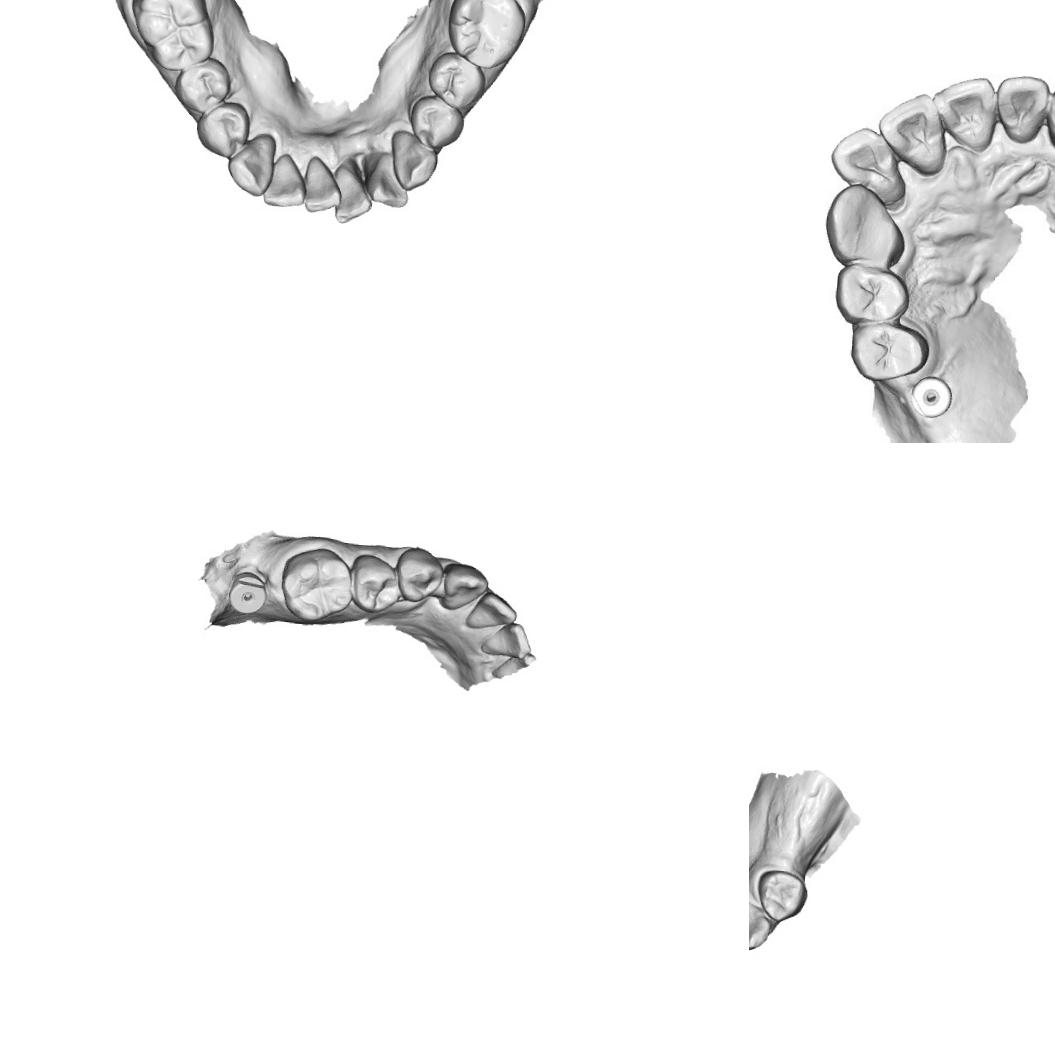canine: (820, 179, 906, 268), (224, 129, 280, 198), (386, 127, 442, 194), (439, 560, 490, 614), (749, 893, 773, 953)
implant: (225, 569, 269, 616), (909, 374, 951, 422)
incisor: (824, 120, 910, 207), (872, 87, 948, 179), (926, 71, 1000, 151), (988, 68, 1050, 149), (361, 150, 414, 210), (297, 152, 344, 216), (260, 150, 308, 212), (330, 160, 375, 226), (464, 588, 520, 632), (480, 620, 535, 661)
molar: (129, 0, 218, 74), (441, 0, 531, 72), (276, 544, 356, 624)
premolar: (842, 321, 929, 386), (832, 260, 912, 329), (422, 48, 488, 114), (167, 54, 234, 118), (191, 96, 253, 161), (405, 92, 468, 152), (346, 552, 402, 615), (754, 865, 808, 924), (392, 545, 445, 604)
